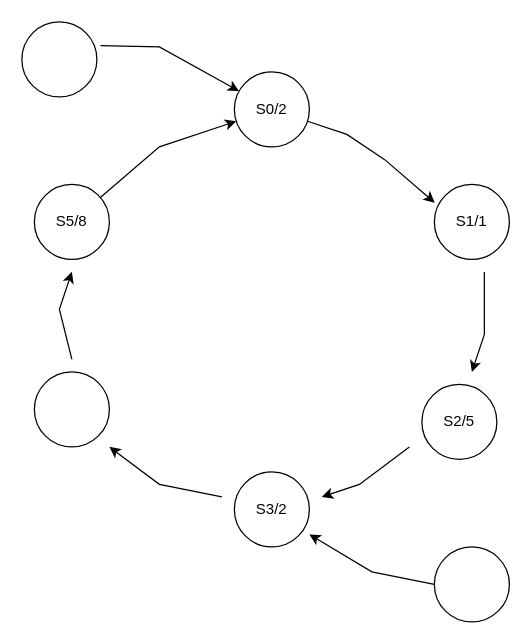
Some shapes in this 531 by 644 pixel diagram are drawn without their labels. The centre of each missing label's shape, as x and y in pixels:
"S4/1" belongs at point 71,409.
"S6/1" belongs at point 59,59.
"S7/0" belongs at point 471,584.
